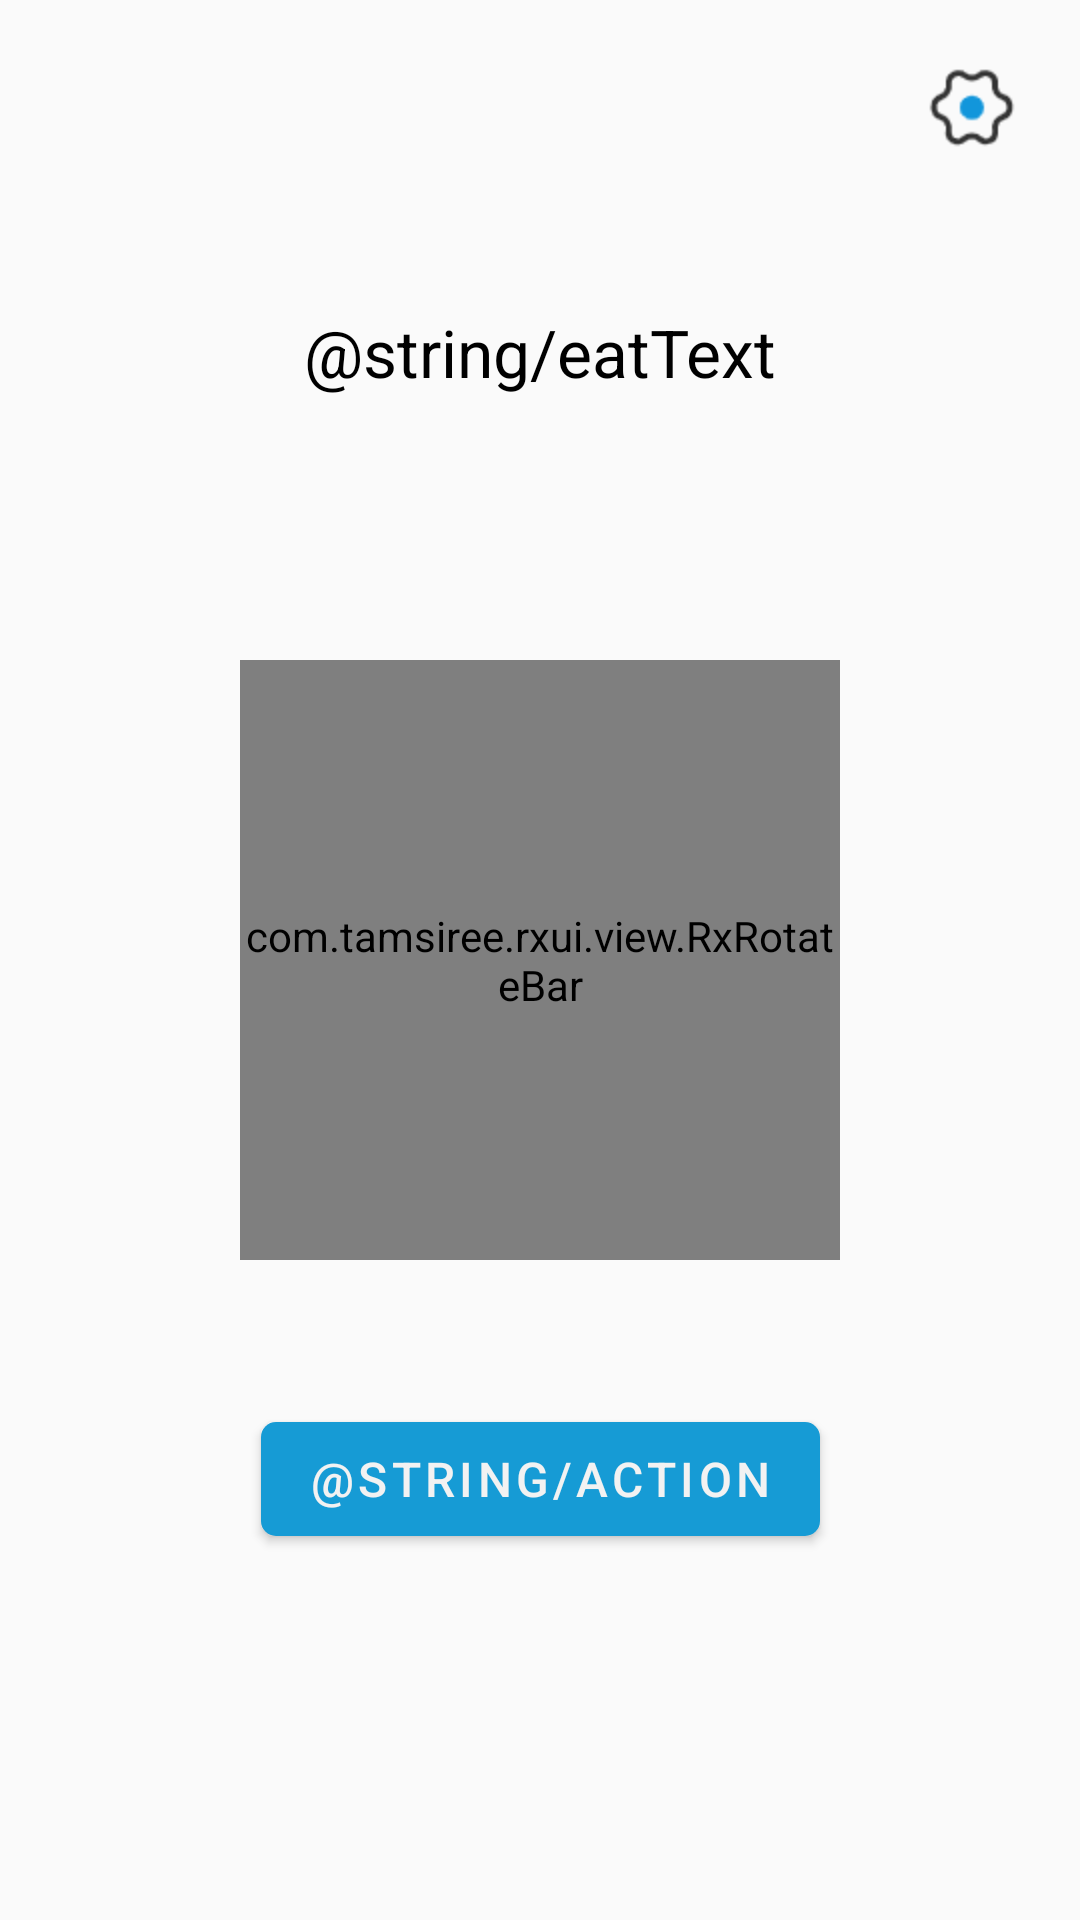

Icon click points for this 1080 × 1920 phone screenshot, format (x,y):
setting: (972,107)
